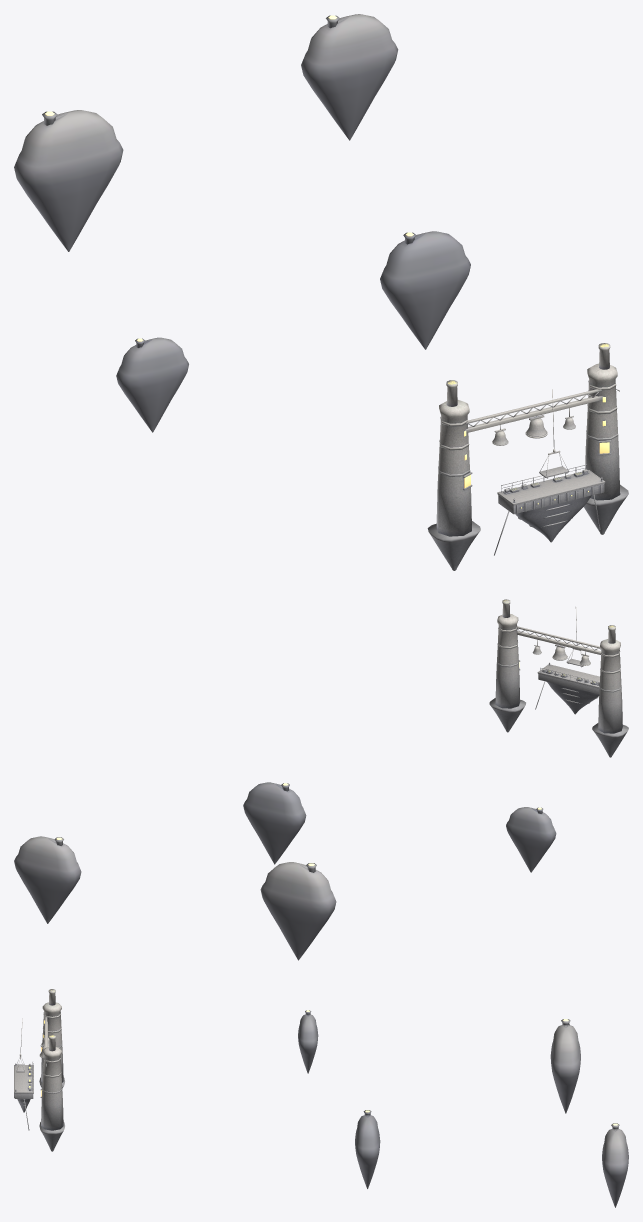
File: bellyard.glb
The picture shows the model from 3 angles, top to bottom: view 1: azimuth 30°, elevation 25°; view 2: azimuth 150°, elevation 25°; view 3: azimuth 270°, elevation 25°; orthographic projection. The views are drawn at different scales.
Visible parts, largest first — view 1: bellyard; view 2: bellyard; view 3: bellyard.
Part boxes in pixels (x1,y1,x2,y2): bellyard: (14, 14, 628, 570); bellyard: (14, 599, 628, 960); bellyard: (14, 989, 628, 1207).
Bounding box in the file's own units: 75.13 × 28.85 × 124.
Materials: 8 (8 with a texture image).
